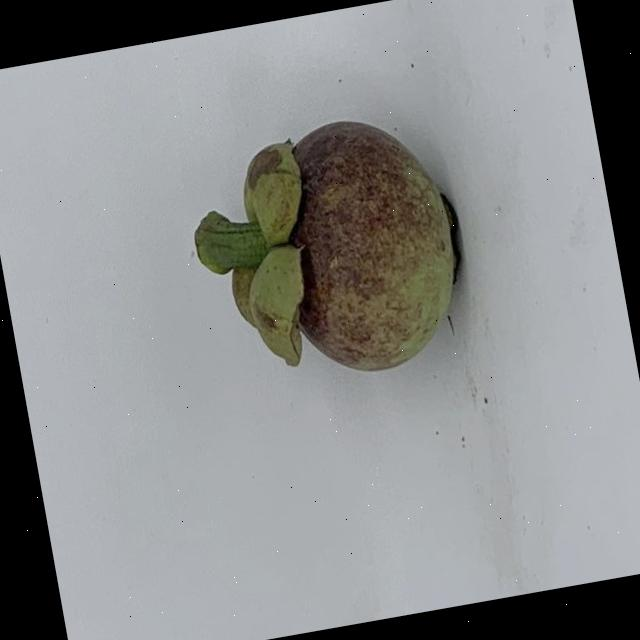mangosteen: (174, 80, 506, 433)
